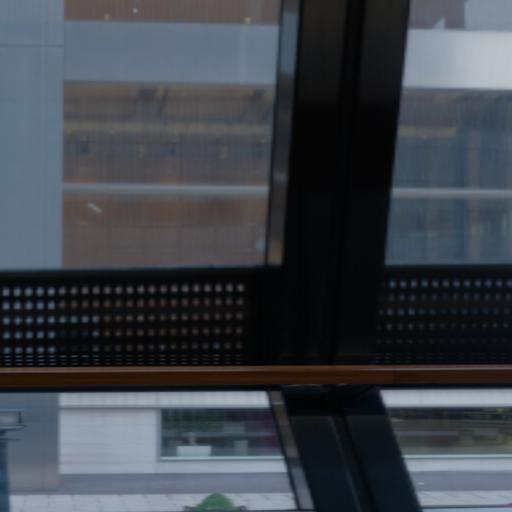nothing: (0, 0, 512, 502)
